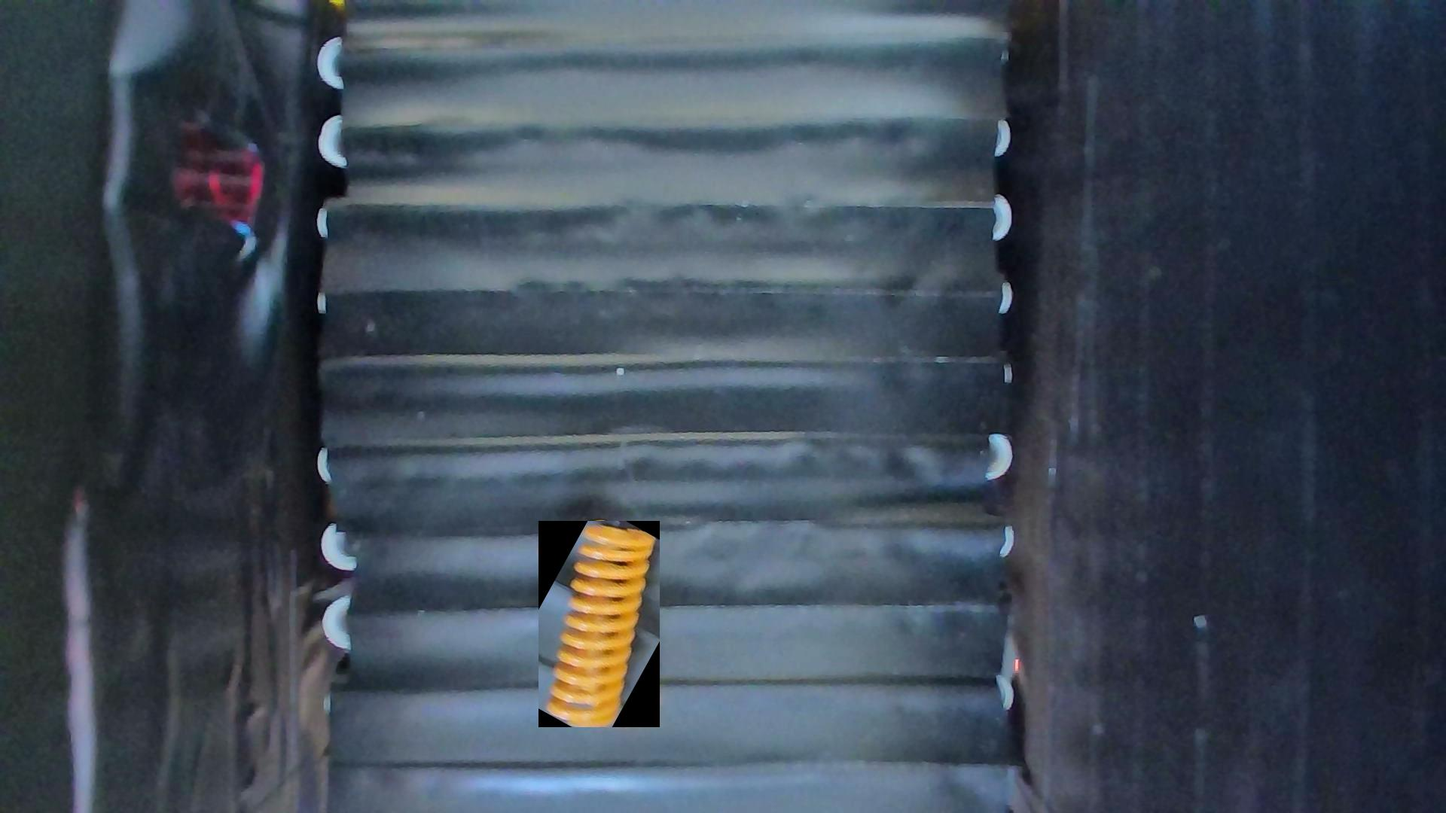spring: (539, 521, 660, 727)
